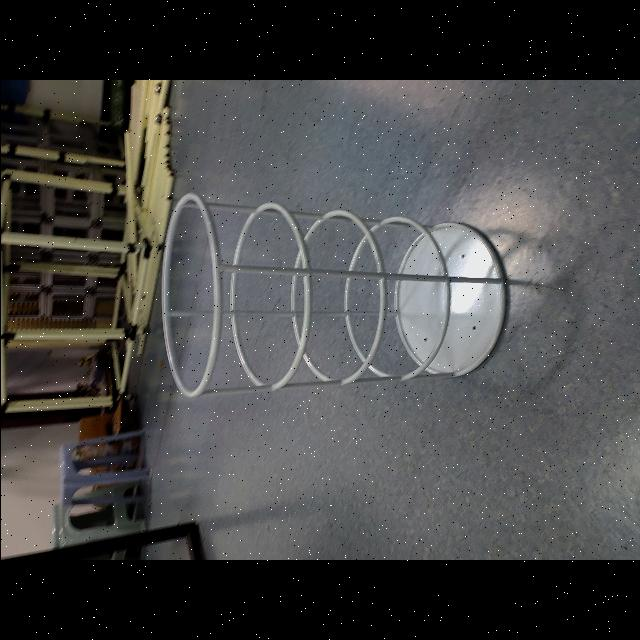S: (157, 188, 511, 400)
